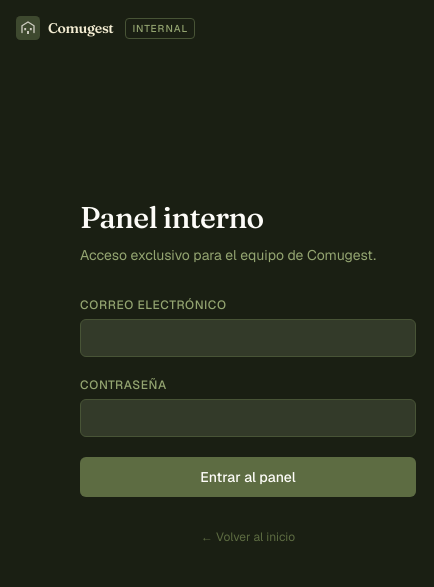
it: SoporteLoginPage › shows error when login returns a non-SUPPORT user
This screenshot has width=434, height=587.
Type "admin@test.com" into the field labelled "Correo electrónico" at (248, 338), box [80,319,416,357]
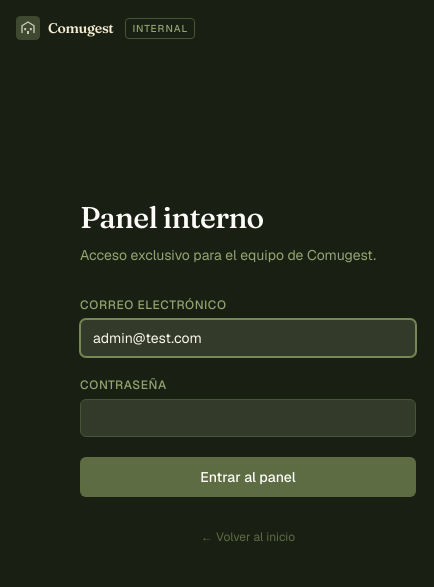
Type "Password1" into the password field labelled "Contraseña" at (248, 418), box [80,399,416,437]
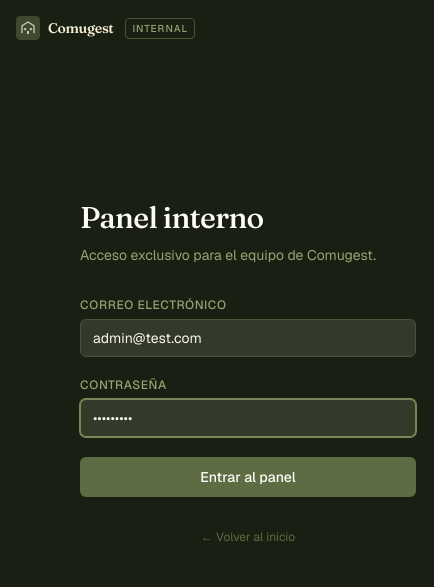
Click the button "Entrar al panel" at (248, 477), box [80,457,416,497]
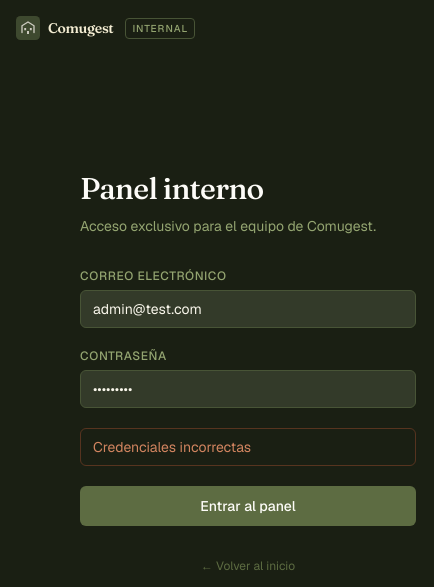
Check: the message "Credenciales incorrectas" is shown, box [80,428,416,466]
